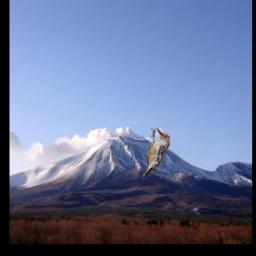Woodpecker: (143, 129, 170, 177)
